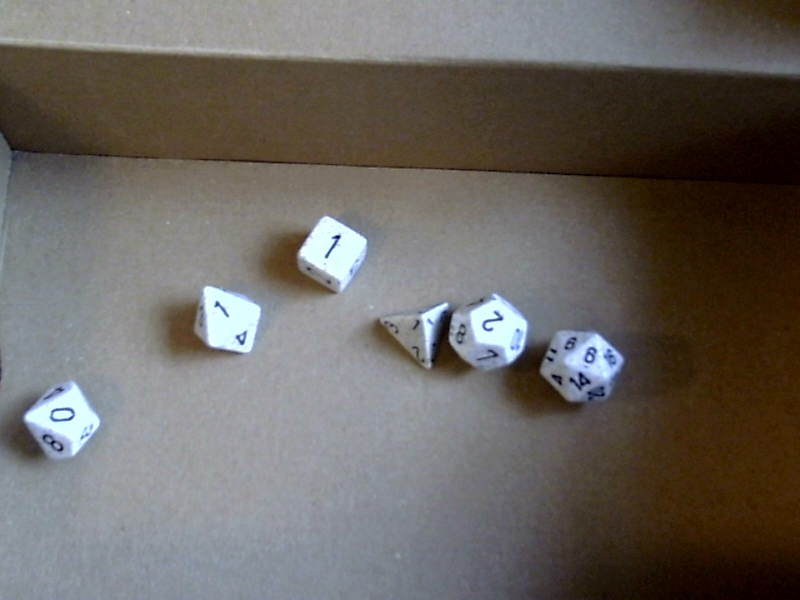d10 10: (20, 374, 105, 467)
d12 2: (451, 291, 530, 377)
d20 6: (535, 324, 629, 415)
d4 1: (373, 301, 450, 372)
d6 1: (291, 207, 374, 297)
d8 1: (185, 283, 267, 367)
